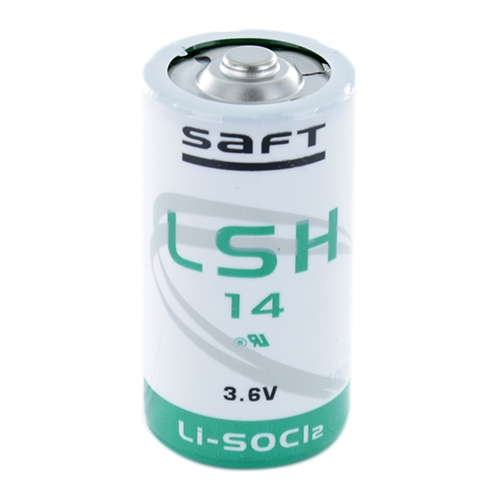Battery: (137, 26, 357, 474)
